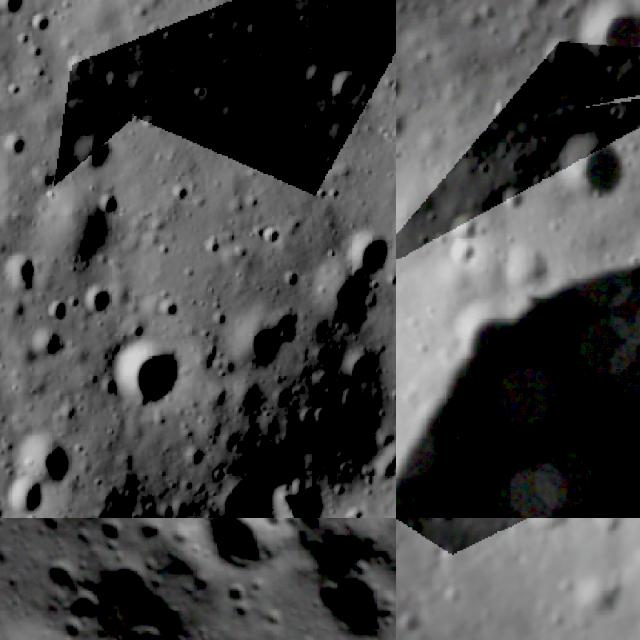crater: (396, 220, 640, 518), (182, 518, 309, 600), (303, 543, 396, 640), (110, 328, 187, 417), (554, 133, 636, 205), (229, 311, 298, 378), (585, 0, 640, 76), (312, 274, 378, 332), (62, 578, 122, 638), (18, 432, 79, 491), (318, 59, 373, 112), (575, 577, 630, 624), (352, 224, 396, 281), (540, 34, 587, 84), (38, 554, 84, 602), (69, 130, 116, 176), (0, 477, 49, 518), (0, 247, 37, 298), (444, 237, 483, 274), (445, 211, 488, 243), (31, 327, 63, 364), (86, 281, 110, 327), (0, 0, 36, 26), (490, 98, 516, 130), (497, 192, 533, 214), (396, 73, 405, 107)
